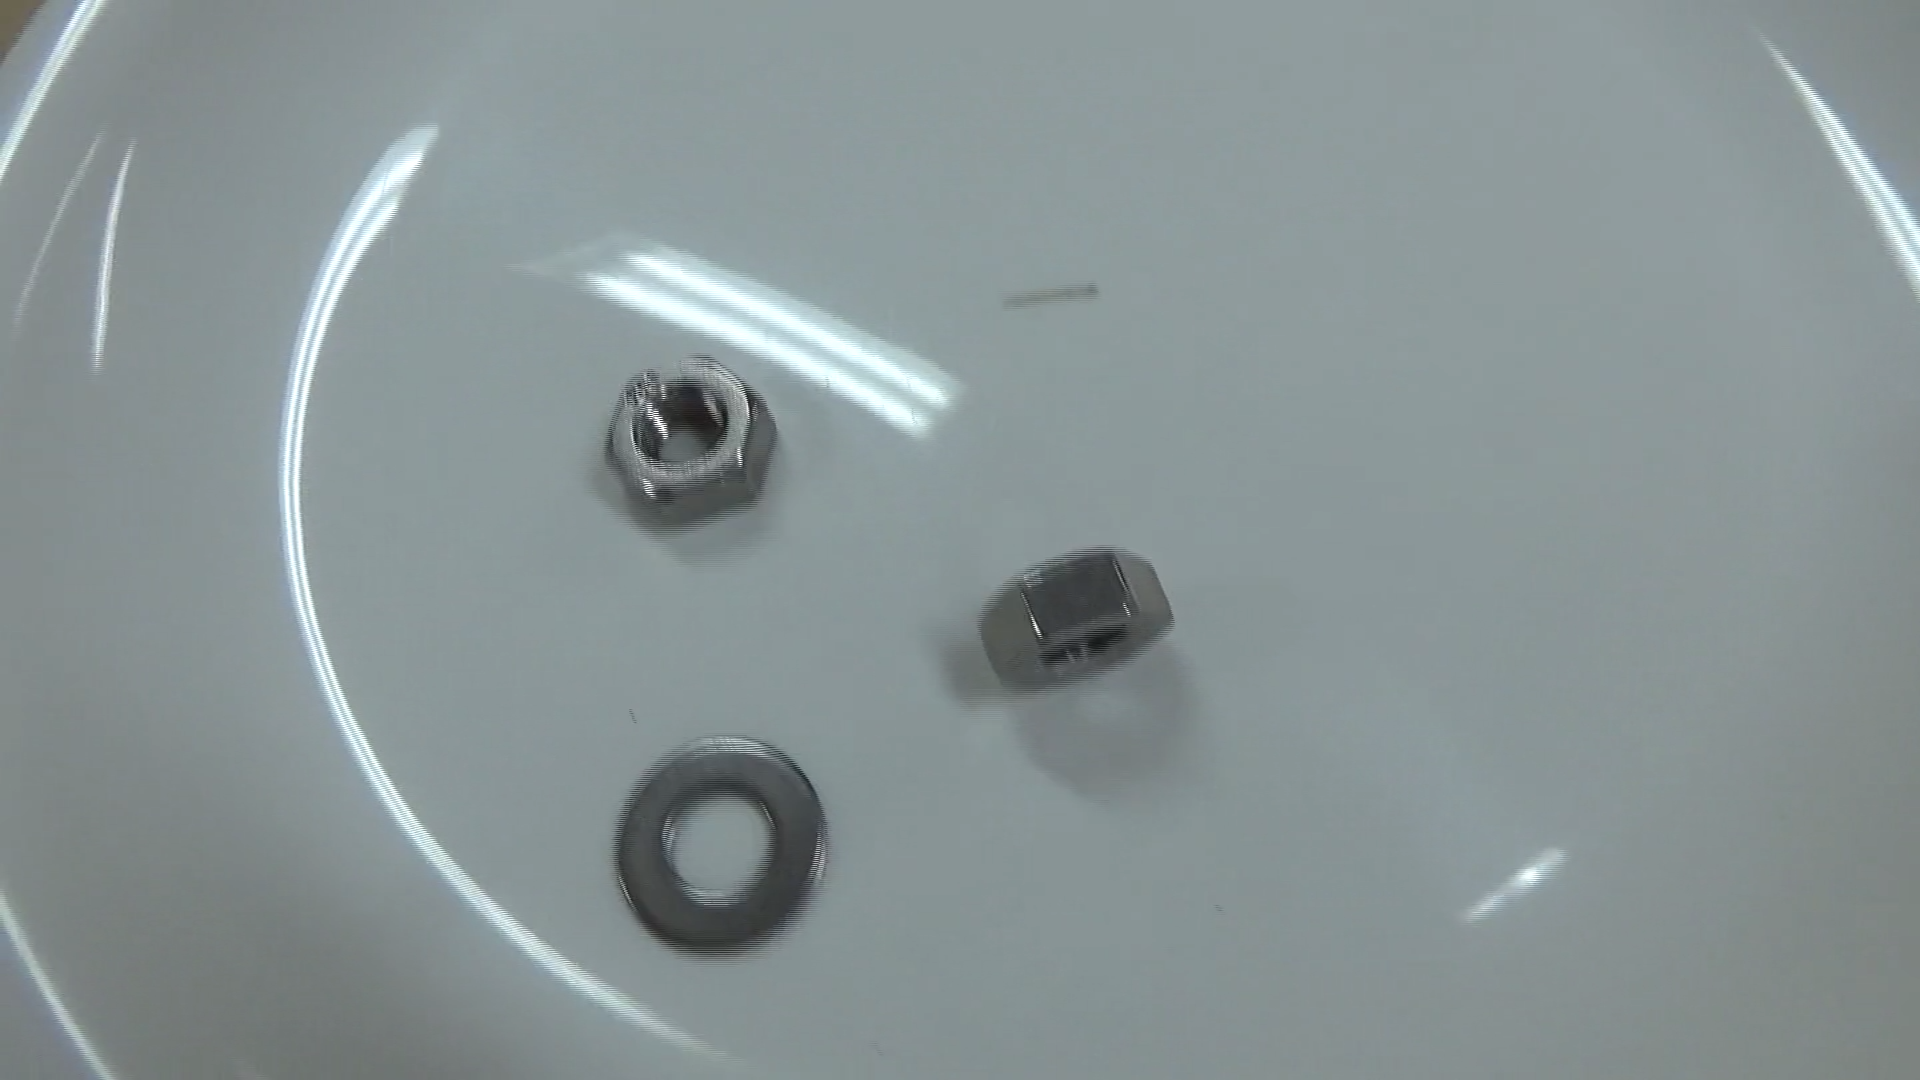nut: (589, 327, 786, 554), (964, 529, 1196, 711)
washer: (601, 717, 843, 964)
